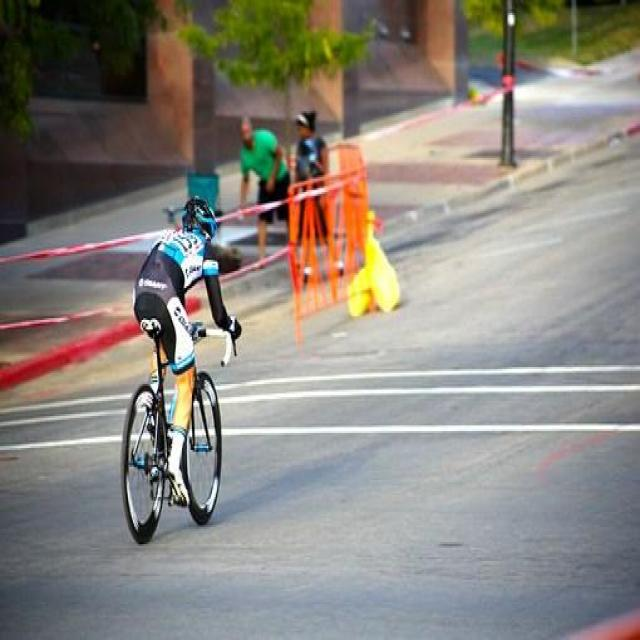bikerider: (98, 188, 253, 559)
